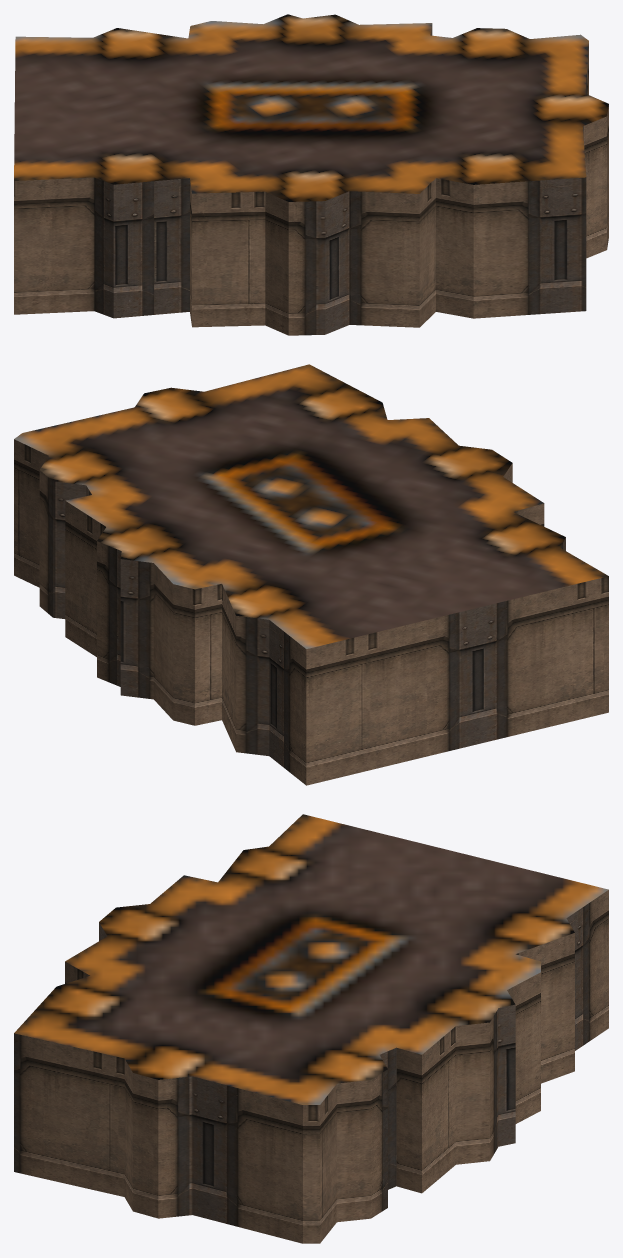
Rendered from heavy_roof32.glb.
The picture shows the model from 3 angles, top to bottom: view 1: azimuth 30°, elevation 25°; view 2: azimuth 150°, elevation 25°; view 3: azimuth 270°, elevation 25°; orthographic projection. The views are drawn at different scales.
Visible parts, largest first — view 1: buildings/saxarba/heavy/heavy_roof32; view 2: buildings/saxarba/heavy/heavy_roof32; view 3: buildings/saxarba/heavy/heavy_roof32.
Part boxes in pixels (x1,y1,x2,y2): buildings/saxarba/heavy/heavy_roof32: (14, 14, 608, 335); buildings/saxarba/heavy/heavy_roof32: (14, 364, 608, 785); buildings/saxarba/heavy/heavy_roof32: (14, 814, 608, 1243).
Bounding box in the file's own units: 81 × 18 × 70.
